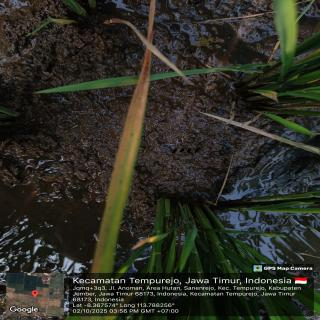Hawar-Daun: (91, 0, 155, 270)
